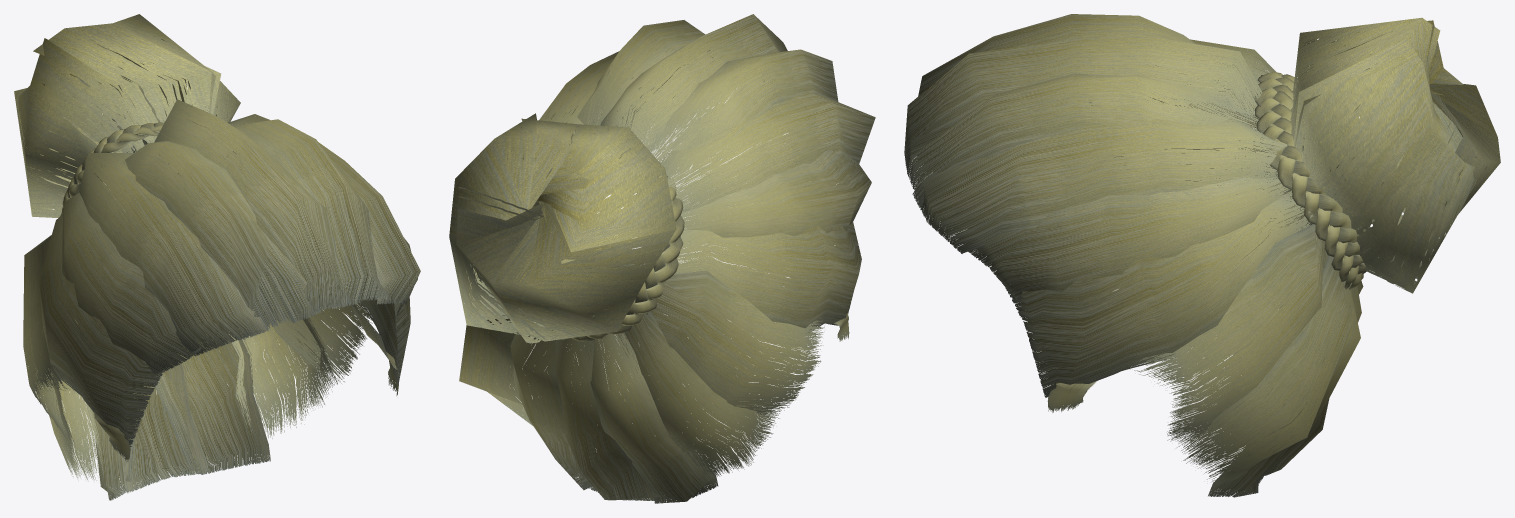
The model's file is mh_grinsegold_wig_bun_blonde_braids.glb.
3 renders of one model, left to right at view 1: azimuth 30°, elevation 25°; view 2: azimuth 150°, elevation 25°; view 3: azimuth 270°, elevation 25°, orthographic. The views are drawn at different scales.
Parts seen in each view (by area): view 1: mh_grinsegold_wig_bun_blonde_braids; view 2: mh_grinsegold_wig_bun_blonde_braids; view 3: mh_grinsegold_wig_bun_blonde_braids.
Boxes of the visible parts, x1,y1,x2,y2 form: mh_grinsegold_wig_bun_blonde_braids: [14, 14, 420, 500]; mh_grinsegold_wig_bun_blonde_braids: [449, 14, 875, 503]; mh_grinsegold_wig_bun_blonde_braids: [904, 14, 1500, 497].
Size of the model in its own units: 0.1855 by 0.2155 by 0.2617.
Materials: 1 (1 with a texture image).
